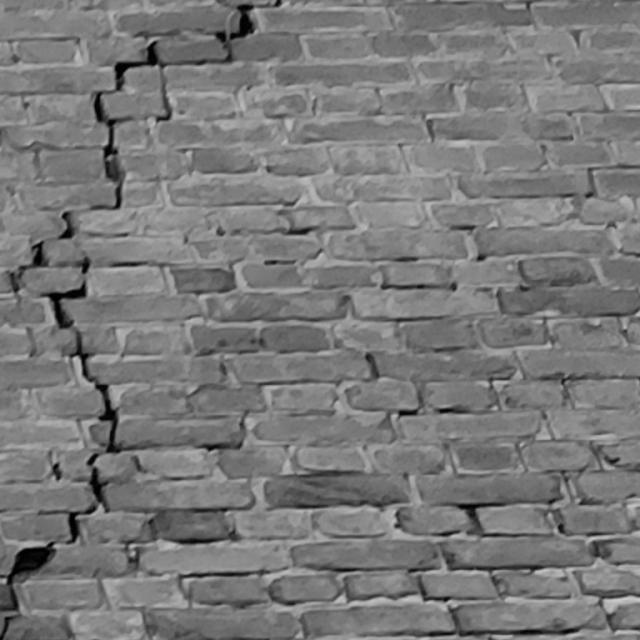crack: (1, 1, 283, 638)
